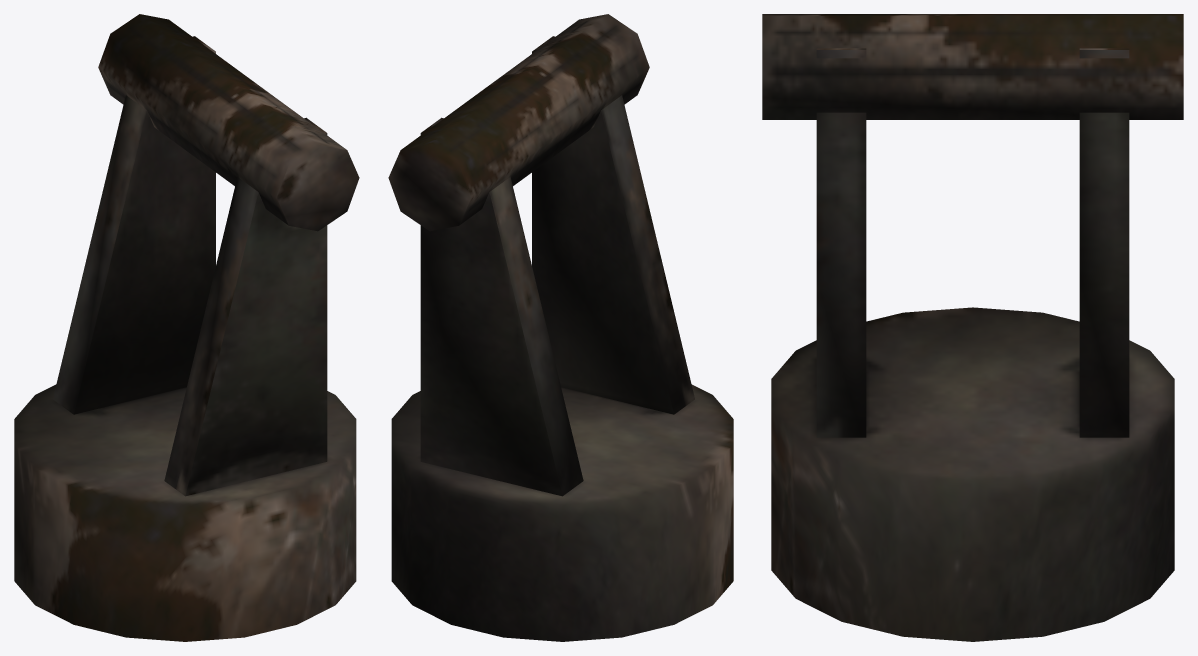
The model's file is Turret.FBX.
3 views of the same model, side by side, from view 1: azimuth 30°, elevation 25°; view 2: azimuth 150°, elevation 25°; view 3: azimuth 270°, elevation 25° (orthographic). The views are drawn at different scales.
Visible parts, largest first — view 1: Turret; view 2: Turret; view 3: Turret.
Part boxes in pixels (<box>): Turret: <box>14,14,359,641</box>; Turret: <box>388,14,733,641</box>; Turret: <box>762,14,1183,641</box>.
Size of the model in its own units: 3.12 by 4.75 by 3.21.
1 material, 1 textured.
